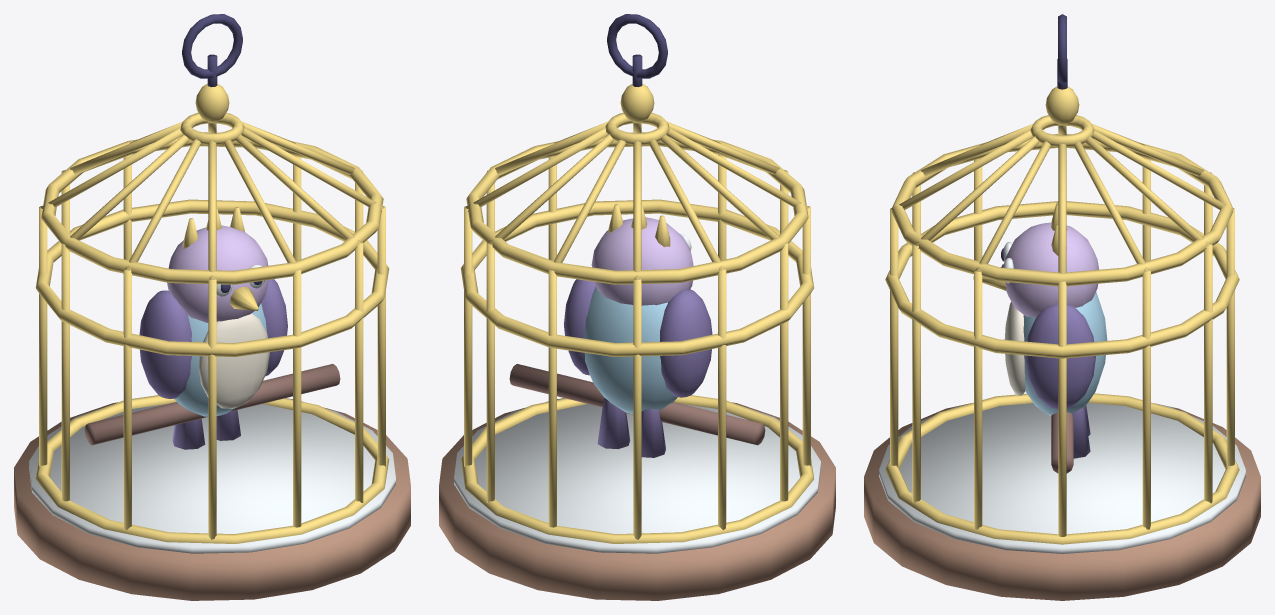
The model's file is alpine_bird_cage.glb.
The picture shows the model from 3 angles, left to right: view 1: azimuth 30°, elevation 25°; view 2: azimuth 150°, elevation 25°; view 3: azimuth 270°, elevation 25°; orthographic projection.
Parts seen in each view (by area): view 1: snow_base_trim, round_wooden_base, golden_cage_ring.001, golden_cage_ring.002, golden_cage_ring, bird_head, wooden_perch, bird_belly, bird_left_wing, golden_cage_bar.008, golden_cage_bar.007, golden_cage_bar.010 (+22 smaller); view 2: snow_base_trim, round_wooden_base, golden_cage_ring.001, golden_cage_ring.002, golden_cage_ring, bird_body, bird_head, wooden_perch, bird_left_wing, golden_cage_bar.004, golden_cage_bar.005, golden_cage_bar.002 (+21 smaller); view 3: snow_base_trim, round_wooden_base, golden_cage_ring.001, golden_cage_ring.002, golden_cage_ring, bird_head, bird_right_wing, golden_cage_bar.001, golden_cage_bar.011, golden_cage_bar.002, golden_cage_bar.010, golden_cage_bar (+20 smaller).
Part boxes in pixels (x1,y1,x2,y2): snow_base_trim: [29, 398, 395, 553]; round_wooden_base: [14, 399, 410, 600]; golden_cage_ring.001: [35, 199, 389, 356]; golden_cage_ring.002: [41, 132, 383, 284]; golden_cage_ring: [35, 395, 389, 543]; bird_head: [167, 225, 268, 322]; wooden_perch: [84, 364, 340, 445]; bird_belly: [198, 313, 269, 408]; bird_left_wing: [139, 290, 191, 398]; golden_cage_bar.008: [208, 279, 216, 539]; golden_cage_bar.007: [123, 269, 131, 530]; golden_cage_bar.010: [355, 242, 363, 502]; snow_base_trim: [454, 398, 820, 553]; round_wooden_base: [439, 399, 835, 600]; golden_cage_ring.001: [460, 199, 814, 356]; golden_cage_ring.002: [466, 132, 808, 284]; golden_cage_ring: [460, 395, 814, 543]; bird_body: [584, 287, 677, 414]; bird_head: [591, 217, 693, 305]; wooden_perch: [509, 364, 765, 445]; bird_left_wing: [660, 289, 712, 397]; golden_cage_bar.004: [633, 279, 641, 539]; golden_cage_bar.005: [718, 269, 726, 530]; golden_cage_bar.002: [486, 242, 494, 502]; snow_base_trim: [879, 403, 1245, 553]; round_wooden_base: [864, 403, 1260, 600]; golden_cage_ring.001: [885, 201, 1239, 358]; golden_cage_ring.002: [891, 134, 1233, 286]; golden_cage_ring: [885, 393, 1239, 544]; bird_head: [1004, 222, 1098, 317]; bird_right_wing: [1025, 303, 1095, 408]; golden_cage_bar.001: [1142, 270, 1150, 529]; golden_cage_bar.011: [974, 270, 982, 529]; golden_cage_bar.002: [1204, 243, 1212, 503]; golden_cage_bar.010: [912, 243, 920, 503]; golden_cage_bar: [1058, 281, 1066, 536].
Bounding box in the file's own units: 4.24 × 5.89 × 4.24.
